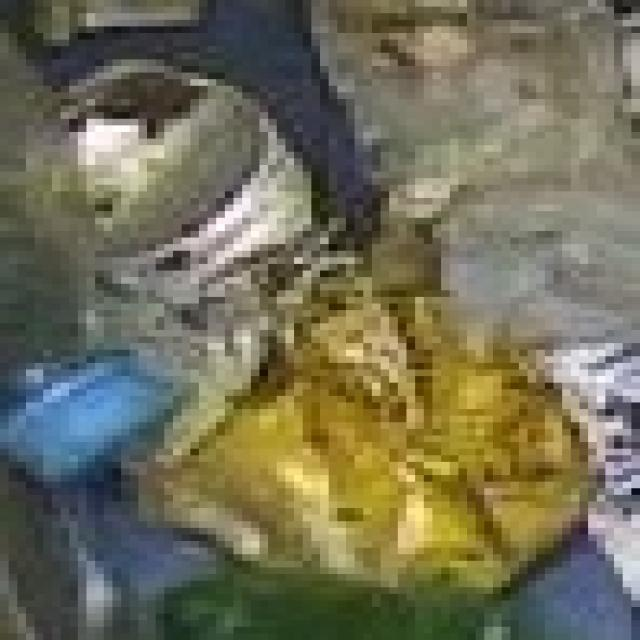can: (0, 32, 619, 623)
